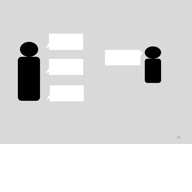left_oneway: (41, 54, 86, 78), (45, 81, 87, 104), (43, 31, 86, 52)
right_oneway: (102, 46, 144, 68)
